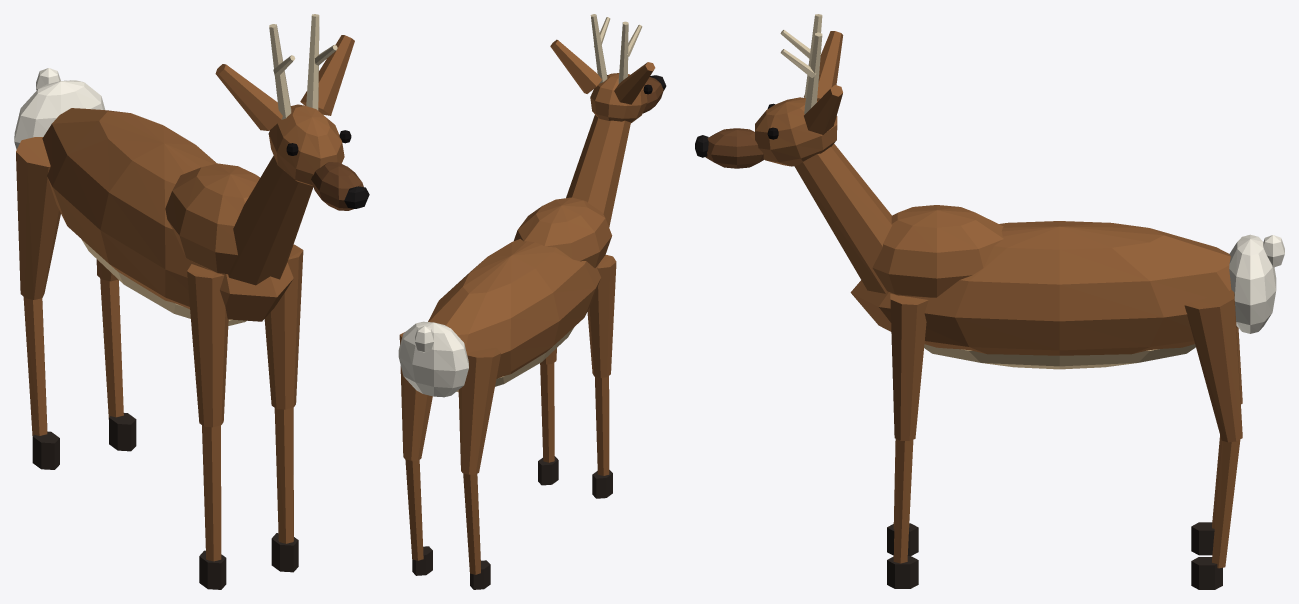
File: deer.obj
3 views of the same model, side by side, from view 1: azimuth 30°, elevation 25°; view 2: azimuth 150°, elevation 25°; view 3: azimuth 270°, elevation 25° (orthographic). The views are drawn at different scales.
Parts seen in each view (by area): view 1: Body, Body.Withers, Head.Neck, Leg.BR, Leg.FR, Leg.FL, Head.Skull, Head.Ear, Body.Rump, Leg.BL.Shin, Leg.BR.Shin, Leg.FR.Shin (+8 smaller); view 2: Body, Body.Withers, Head.Neck, Body.Rump, Leg.BR, Leg.FR, Head.Ear, Leg.BL, Head.Skull, Leg.FR.Shin, Leg.BL.Shin, Leg.BR.Shin (+9 smaller); view 3: Body, Body.Withers, Head.Neck, Leg.BL, Leg.FL, Body.Rump, Head.Skull, Body.Belly, Head.Ear, Leg.BL.Shin, Leg.FL.Shin, Head.Muzzle (+3 smaller).
Part boxes in pixels (x1,y1,x2,y2): Body: [42, 108, 293, 321]; Body.Withers: [165, 163, 259, 274]; Head.Neck: [228, 155, 313, 285]; Leg.BR: [16, 137, 60, 299]; Leg.FR: [187, 264, 228, 427]; Leg.FL: [264, 244, 303, 409]; Head.Skull: [268, 104, 344, 185]; Head.Ear: [215, 35, 354, 130]; Body.Rump: [14, 80, 105, 149]; Leg.BL.Shin: [100, 278, 123, 419]; Leg.BR.Shin: [23, 297, 47, 435]; Leg.FR.Shin: [202, 425, 221, 561]; Body: [428, 239, 600, 378]; Body.Withers: [514, 197, 612, 267]; Head.Neck: [566, 115, 630, 227]; Body.Rump: [398, 321, 468, 397]; Leg.BR: [458, 347, 500, 474]; Leg.FR: [587, 255, 616, 377]; Head.Ear: [550, 39, 655, 104]; Leg.BL: [399, 332, 432, 460]; Head.Skull: [590, 73, 647, 122]; Leg.FR.Shin: [595, 376, 609, 475]; Leg.BL.Shin: [405, 459, 423, 560]; Leg.BR.Shin: [463, 473, 480, 574]; Body: [850, 221, 1236, 355]; Body.Withers: [872, 205, 1003, 297]; Head.Neck: [794, 143, 891, 293]; Leg.BL: [1184, 290, 1242, 442]; Leg.FL: [890, 294, 928, 440]; Body.Rump: [1229, 234, 1276, 333]; Head.Skull: [755, 97, 837, 166]; Body.Belly: [924, 344, 1195, 369]; Head.Ear: [804, 31, 843, 134]; Leg.BL.Shin: [1212, 439, 1240, 568]; Leg.FL.Shin: [893, 439, 913, 563]; Head.Muzzle: [705, 128, 764, 168].
Bounding box in the file's own units: 0.32 × 1.32 × 1.3.
